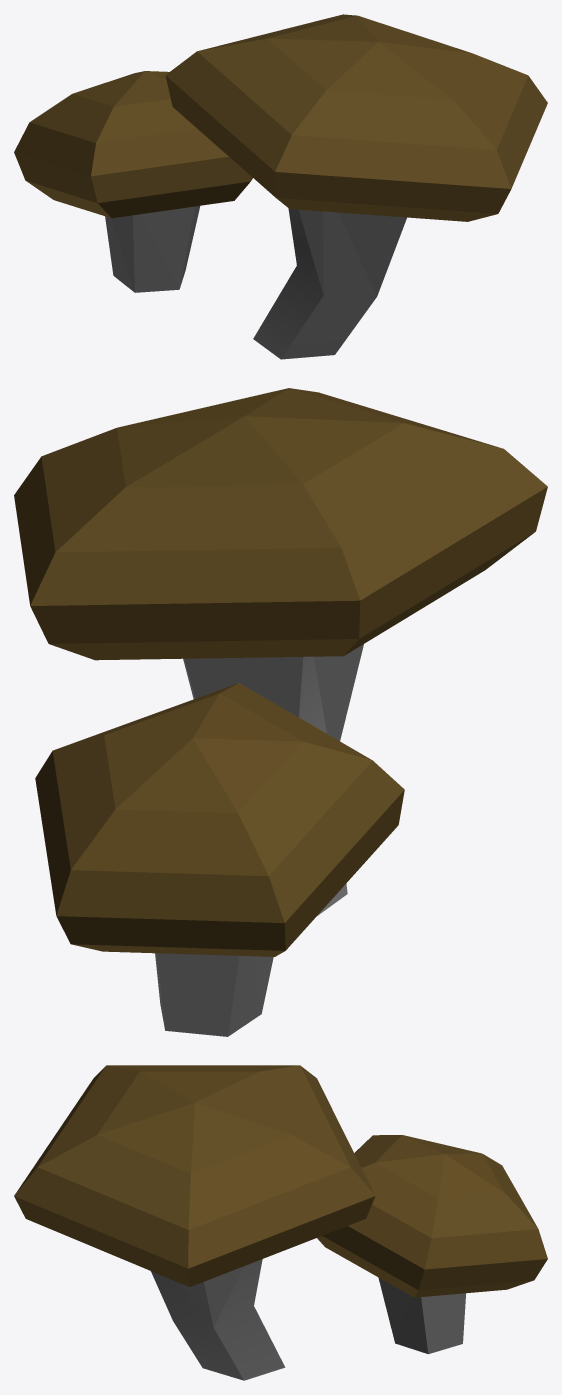
Rendered from Paddestoelbruin.fbx.
3 views of the same model, one above another, from view 1: azimuth 30°, elevation 25°; view 2: azimuth 150°, elevation 25°; view 3: azimuth 270°, elevation 25° (orthographic). The views are drawn at different scales.
Parts seen in each view (by area): view 1: polySurface107; view 2: polySurface107; view 3: polySurface107.
Part boxes in pixels (x1,y1,x2,y2): polySurface107: [14, 14, 547, 359]; polySurface107: [14, 388, 547, 1036]; polySurface107: [14, 1065, 547, 1380].
Bounding box in the file's own units: 2.25 × 1.8 × 3.07.
